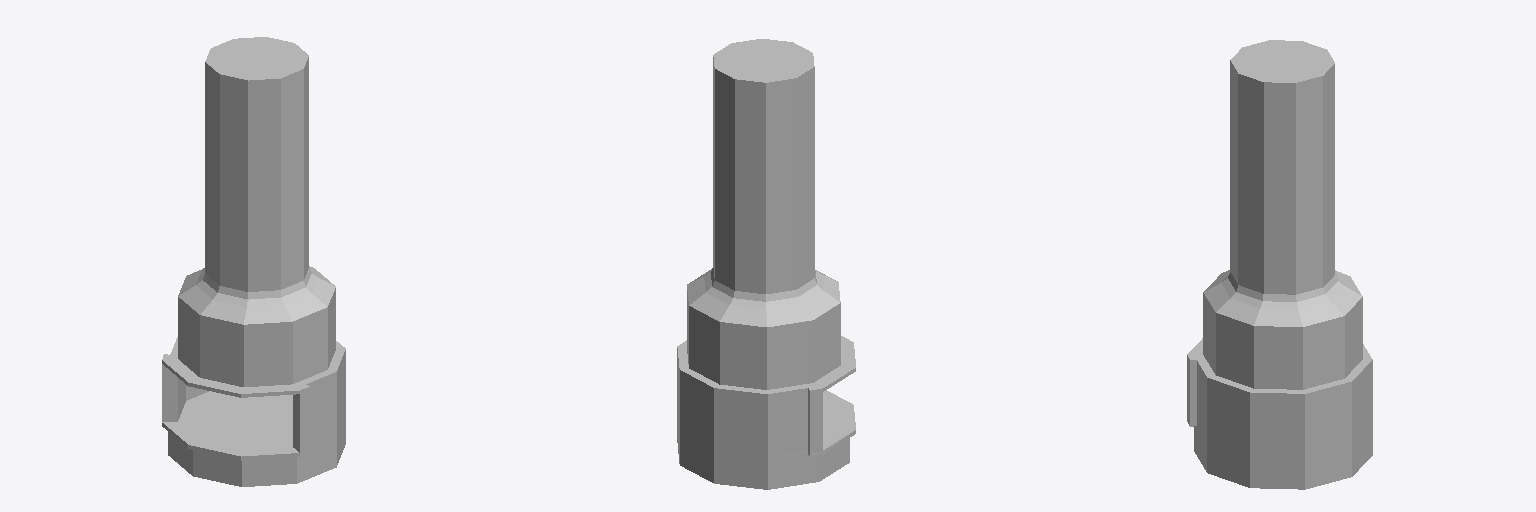
File: EngineRoom_CoreEngine.obj
The picture shows the model from 3 angles: view 1: azimuth 30°, elevation 25°; view 2: azimuth 150°, elevation 25°; view 3: azimuth 270°, elevation 25°; orthographic projection.
Visible parts, largest first — view 1: default; view 2: default; view 3: default.
Boxes of the visible parts, x1=… form: default: x1=162, y1=37, x2=345, y2=486; default: x1=677, y1=39, x2=855, y2=489; default: x1=1187, y1=40, x2=1372, y2=489.
Size of the model in its own units: 29.4 by 70.54 by 30.29.